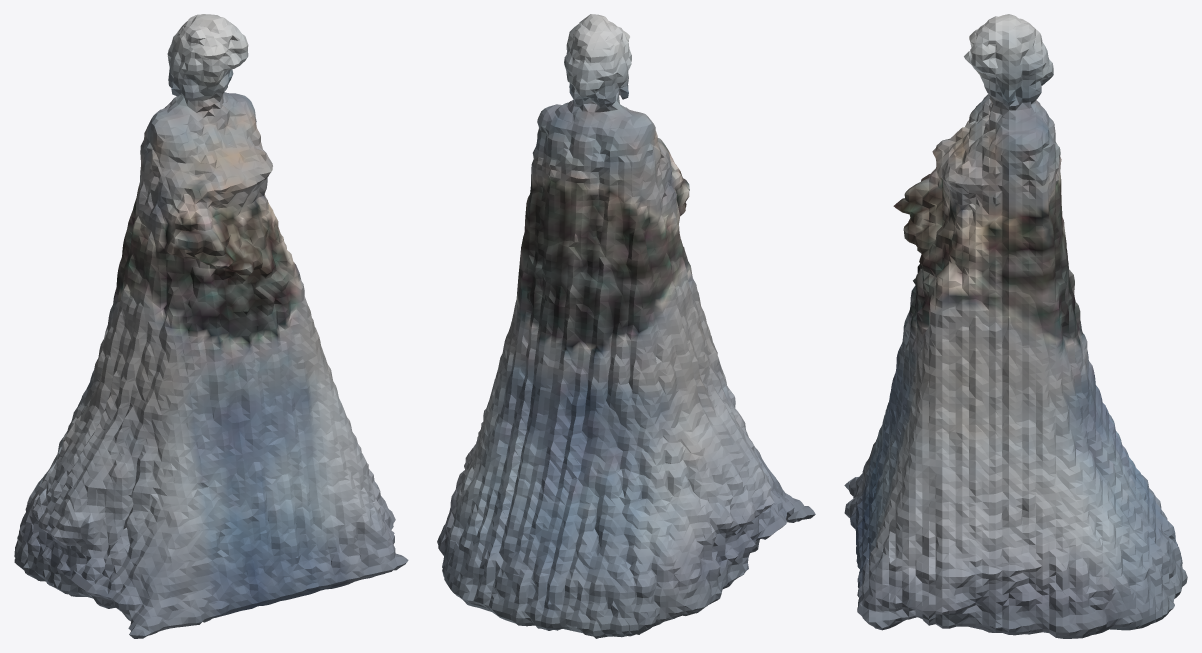
File: nabi-nia-triposr-v1.glb
3 renders of one model, left to right at view 1: azimuth 30°, elevation 25°; view 2: azimuth 150°, elevation 25°; view 3: azimuth 270°, elevation 25°, orthographic. The views are drawn at different scales.
Parts seen in each view (by area): view 1: world; view 2: world; view 3: world.
Boxes of the visible parts, x1=… form: world: x1=14, y1=14, x2=408, y2=638; world: x1=437, y1=14, x2=815, y2=638; world: x1=844, y1=14, x2=1187, y2=638.
Bounding box in the file's own units: 1.05 × 1.78 × 0.9558.
